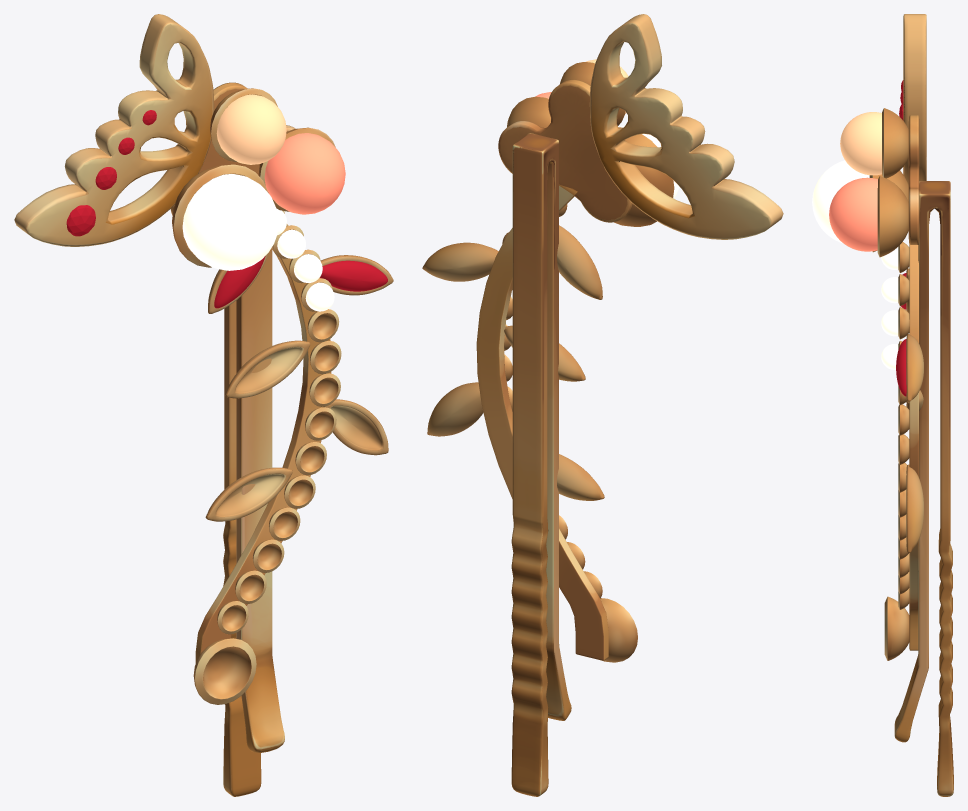
The picture shows the model from 3 angles, left to right: view 1: azimuth 30°, elevation 25°; view 2: azimuth 150°, elevation 25°; view 3: azimuth 270°, elevation 25°; orthographic projection. The views are drawn at different scales.
Visible parts, largest first — view 1: hairakuse; view 2: hairakuse; view 3: hairakuse.
Boxes of the visible parts, x1,y1,x2,y2 form: hairakuse: [14, 14, 393, 796]; hairakuse: [422, 14, 783, 796]; hairakuse: [812, 14, 953, 796].
Size of the model in its own units: 72.64 by 152 by 26.6.
